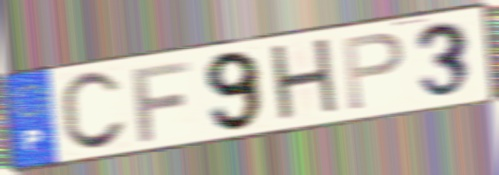3: (413, 18, 478, 104)
9: (202, 49, 268, 134)
C: (57, 68, 130, 155)
F: (128, 58, 194, 145)
H: (266, 34, 343, 127)
P: (340, 30, 407, 114)
